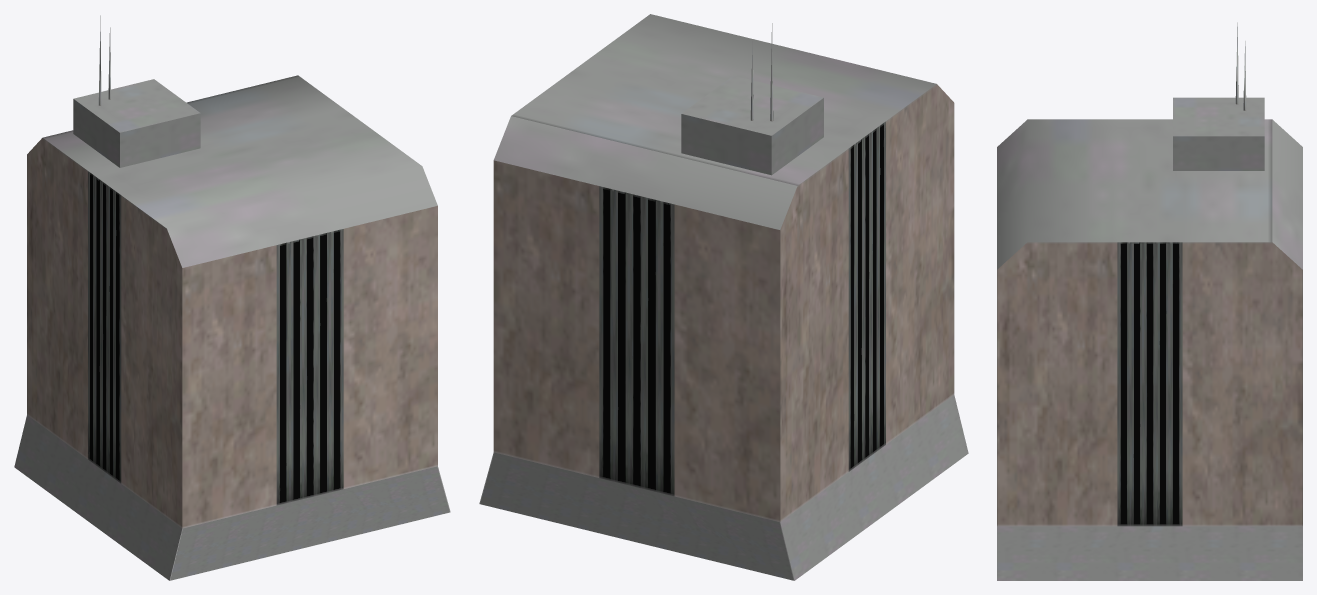
Rendered from thm_corl_imprv_building_s03_r0_mesh_l4.fbx.
3 views of the same model, side by side, from view 1: azimuth 30°, elevation 25°; view 2: azimuth 150°, elevation 25°; view 3: azimuth 270°, elevation 25° (orthographic). The views are drawn at different scales.
Parts seen in each view (by area): view 1: mesh_node; view 2: mesh_node; view 3: mesh_node.
Part boxes in pixels (x1,y1,x2,y2): mesh_node: (14, 15, 450, 580); mesh_node: (479, 14, 968, 580); mesh_node: (997, 22, 1302, 580).
Size of the model in its own units: 41.8 by 66 by 40.
1 material, 1 textured.
